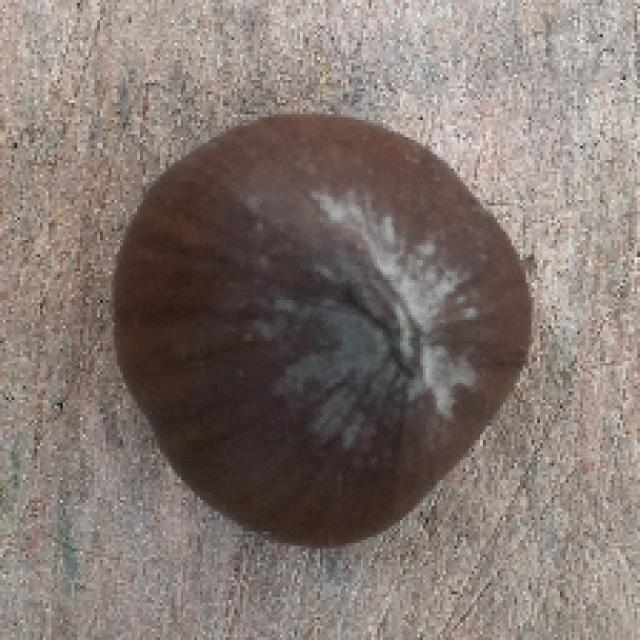DamagedHazelnut: (108, 112, 531, 546)
